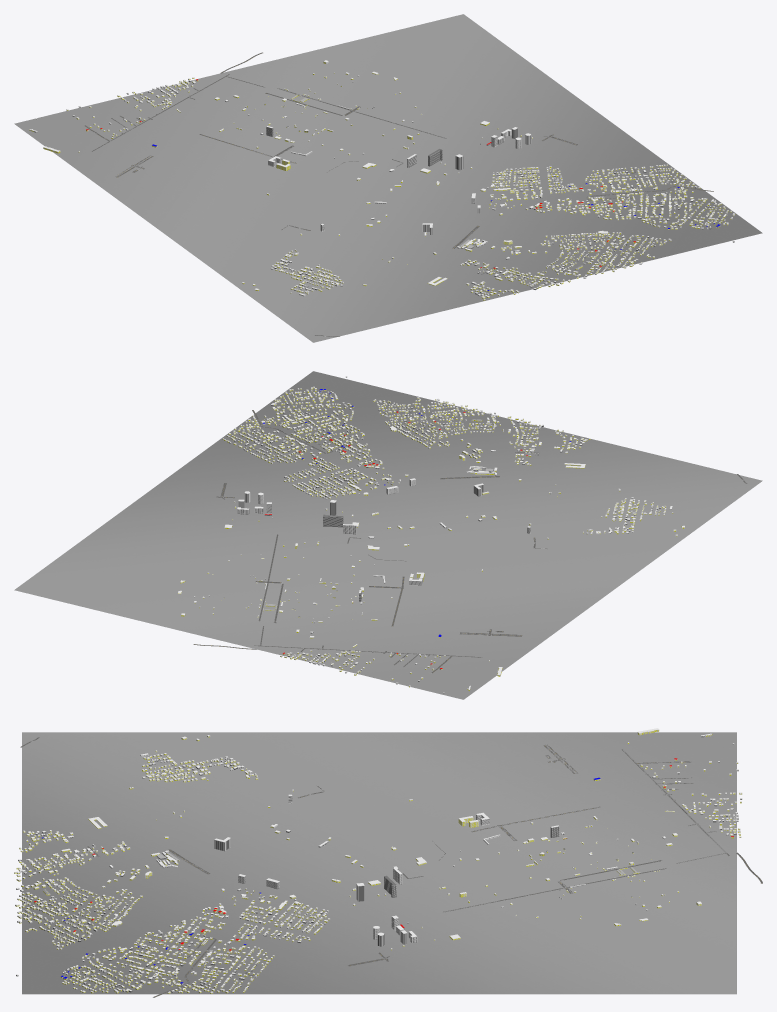
The model's file is dzer1_1.fbx.
3 renders of one model, top to bottom at view 1: azimuth 30°, elevation 25°; view 2: azimuth 150°, elevation 25°; view 3: azimuth 270°, elevation 25°, orthographic. The views are drawn at different scales.
Parts seen in each view (by area): view 1: CityEngineShapeMaterial_1_m, CityEngineMaterial_m, CityEngineMaterial_3_m, CityEngineMaterial_8_m, CityEngineMaterial_10_m, CityEngineMaterial_7_m; view 2: CityEngineShapeMaterial_1_m, CityEngineMaterial_m, CityEngineMaterial_3_m, CityEngineMaterial_8_m, CityEngineMaterial_10_m; view 3: CityEngineShapeMaterial_1_m, CityEngineMaterial_m, CityEngineMaterial_3_m, CityEngineMaterial_10_m, CityEngineMaterial_8_m, CityEngineMaterial_7_m, CityEngineMaterial_5_m, CityEngineMaterial_22_m.
Boxes of the visible parts, x1,y1,x2,y2 form: CityEngineShapeMaterial_1_m: (14,14,762,342); CityEngineMaterial_m: (29,60,734,300); CityEngineMaterial_3_m: (29,62,735,300); CityEngineMaterial_8_m: (85,52,712,336); CityEngineMaterial_10_m: (85,53,713,336); CityEngineMaterial_7_m: (36,83,734,291); CityEngineShapeMaterial_1_m: (14,371,762,699); CityEngineMaterial_m: (178,376,684,693); CityEngineMaterial_3_m: (178,387,684,690); CityEngineMaterial_8_m: (193,410,746,672); CityEngineMaterial_10_m: (194,410,746,672); CityEngineShapeMaterial_1_m: (22,732,736,994); CityEngineMaterial_m: (14,728,742,993); CityEngineMaterial_3_m: (14,730,741,993); CityEngineMaterial_10_m: (21,737,762,997); CityEngineMaterial_8_m: (20,737,762,997); CityEngineMaterial_7_m: (16,744,738,990); CityEngineMaterial_5_m: (17,736,738,989); CityEngineMaterial_22_m: (20,759,738,989).
Bounding box in the file's own units: 3288 × 88.8 × 3886.
